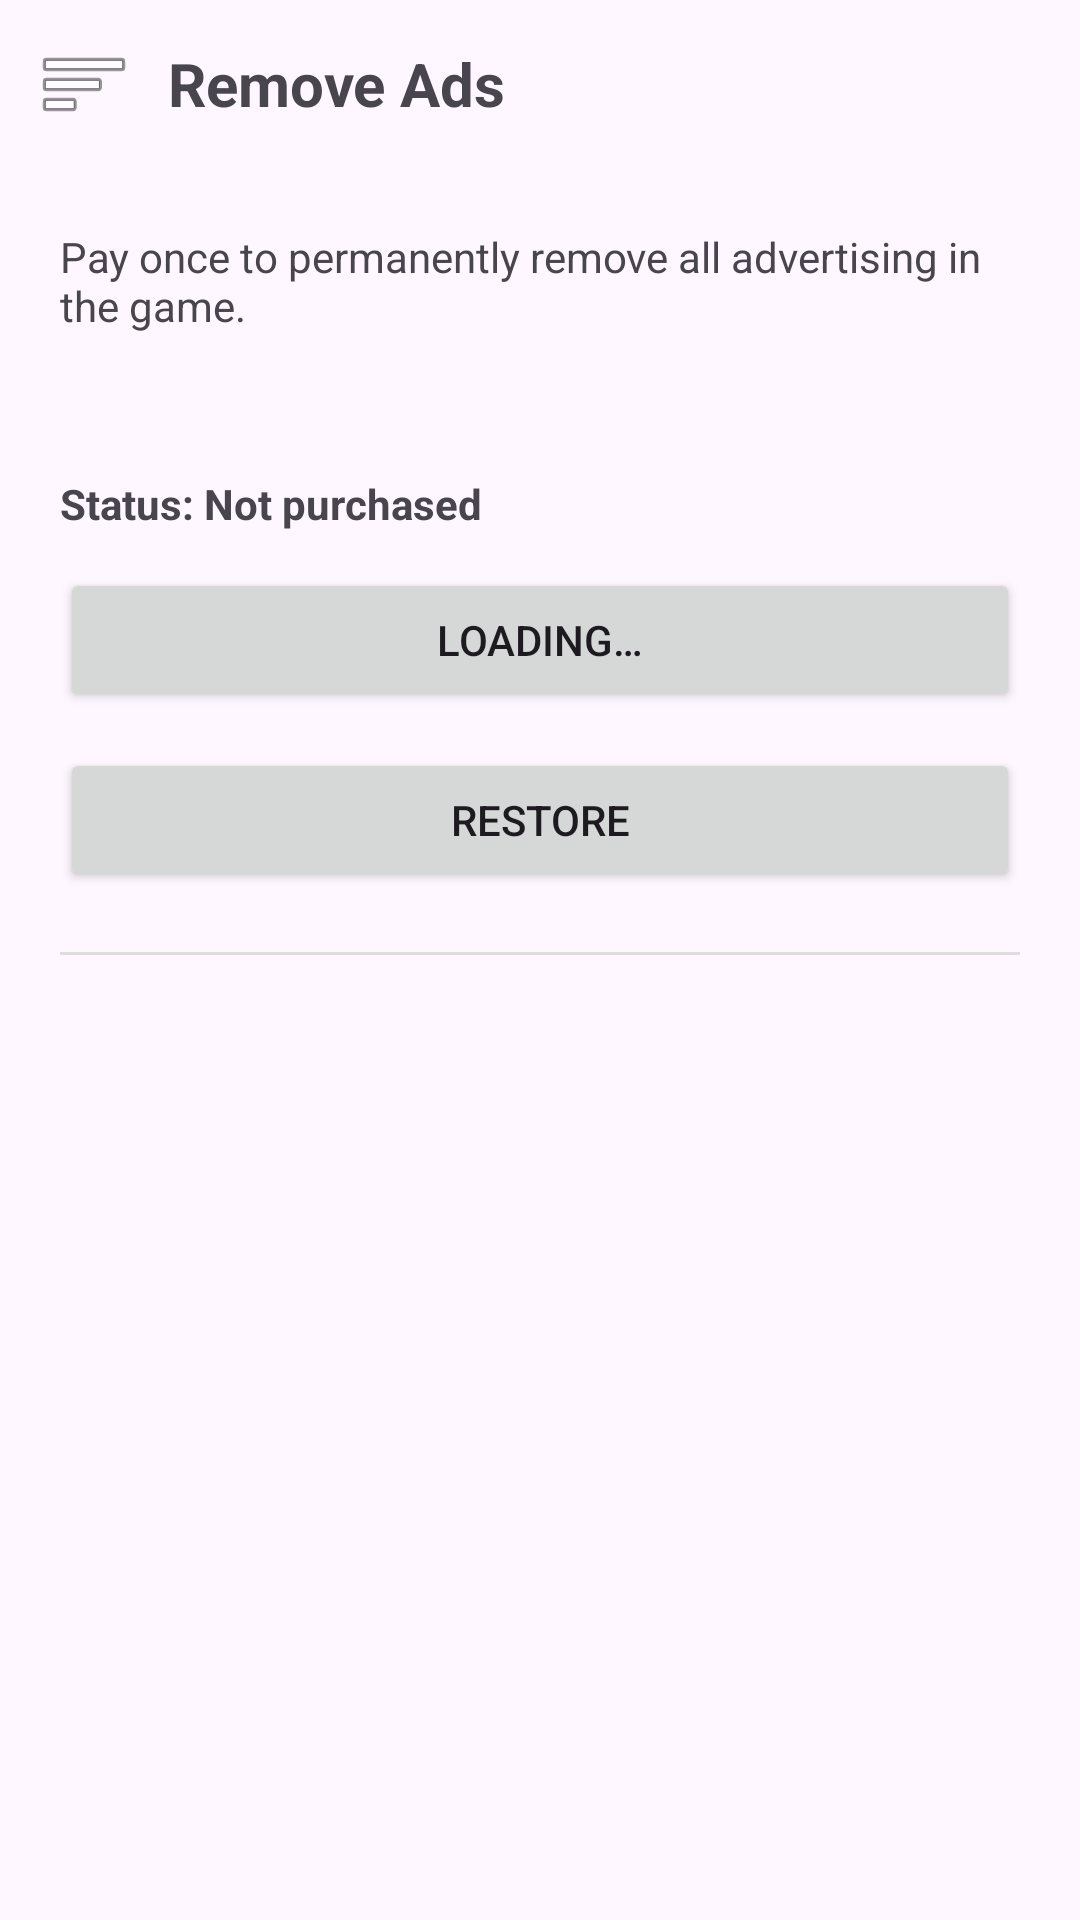

Screen size 1080 x 1920. Icon name, then its center in pixels as (x=x, y=y):
Menu: (x=84, y=84)
